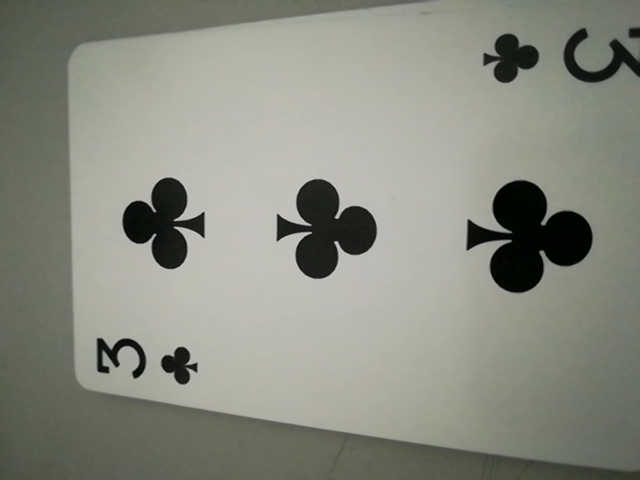mh 3: (479, 15, 640, 100), (87, 330, 202, 391)
